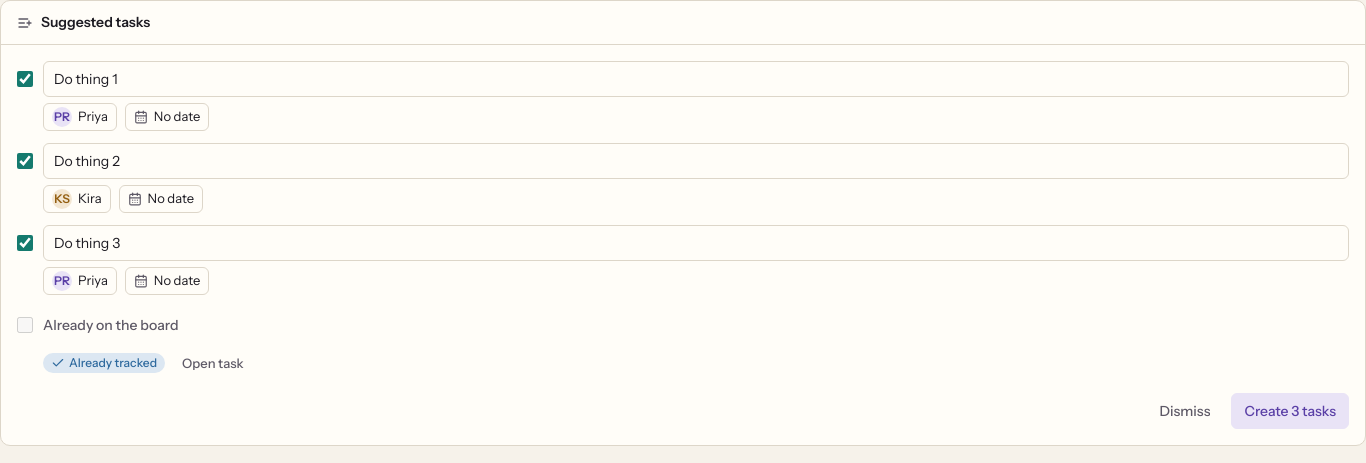
Test: SuggestedTasks › updates the create button as rows are unchecked
This screenshot has width=1366, height=463.
Click the checkbox named "Create task: Do thing 2".
click(25, 161)  # box x1=17 y1=153 x2=33 y2=169
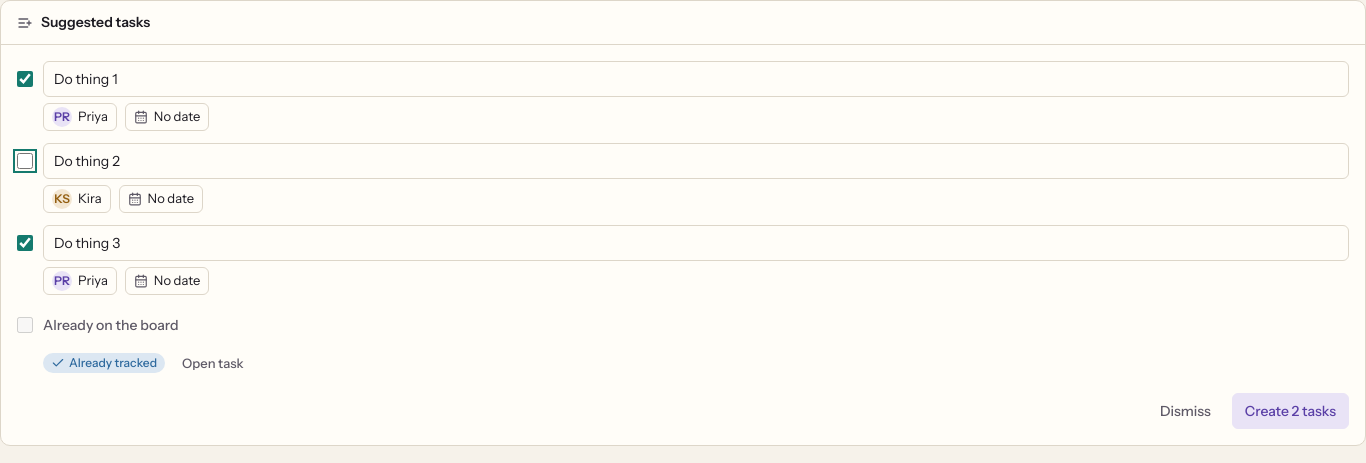
Expected: the button "Create 2 tasks" is enabled, x1=1232 y1=393 x2=1349 y2=429
Click the checkbox named "Create task: Do thing 1".
click(25, 79)  # box x1=17 y1=71 x2=33 y2=87
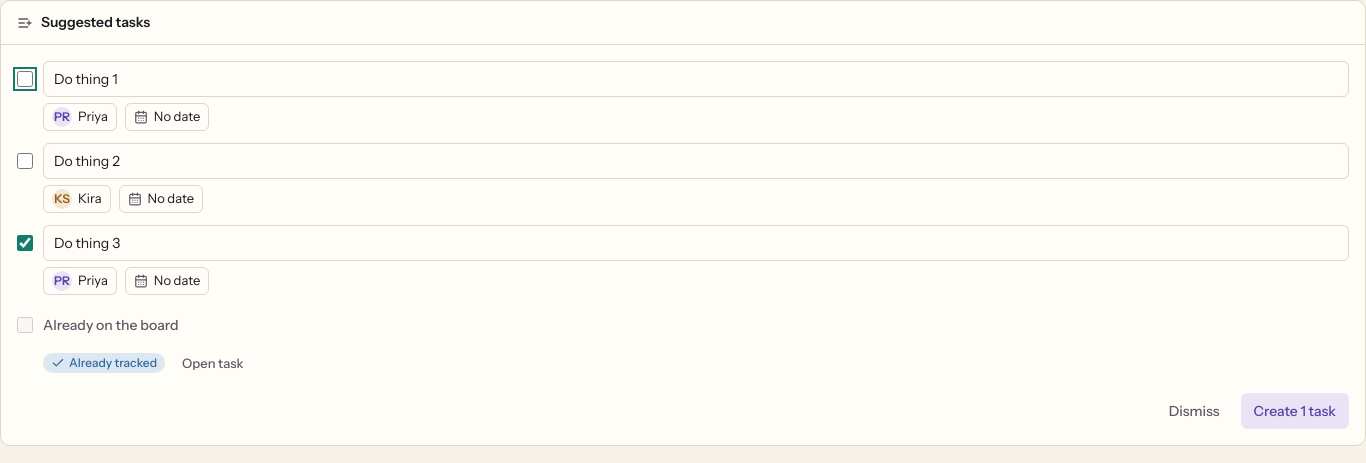
Expected: the button "Create 1 task" is enabled, x1=1241 y1=393 x2=1349 y2=429
Click the checkbox named "Create task: Do thing 3".
click(25, 243)  # box x1=17 y1=235 x2=33 y2=251
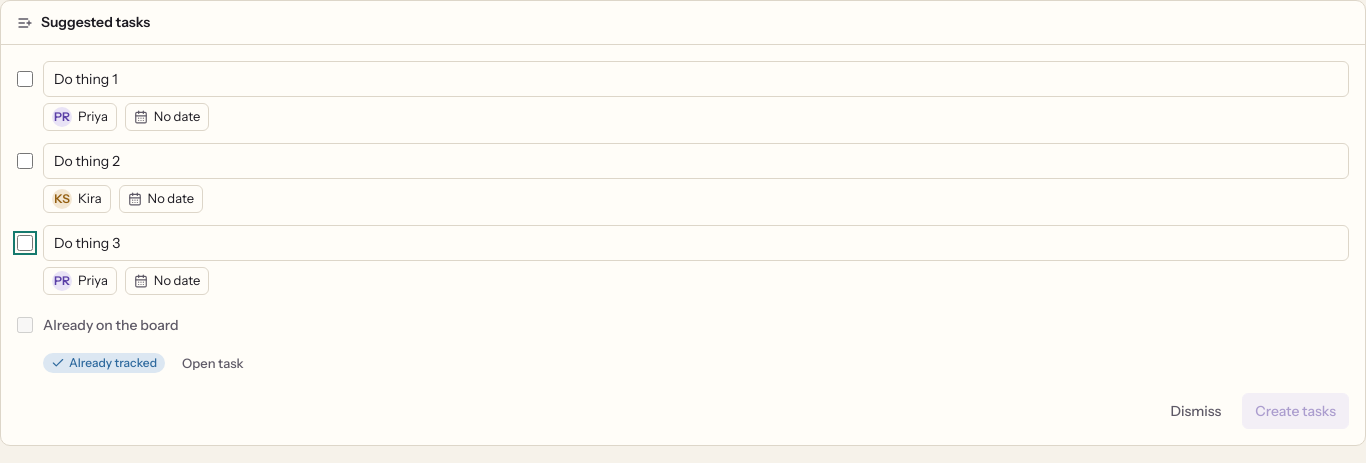
Expected: the button "Create tasks" is disabled, x1=1242 y1=393 x2=1349 y2=429
